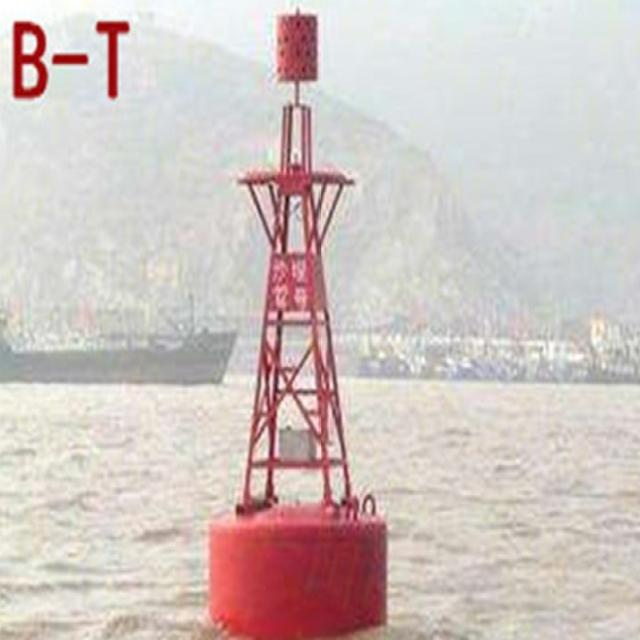buoy: (202, 3, 392, 637)
